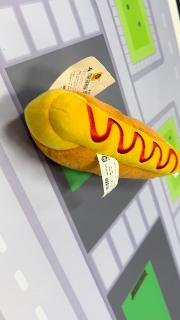hotdog: (24, 88, 180, 180)
